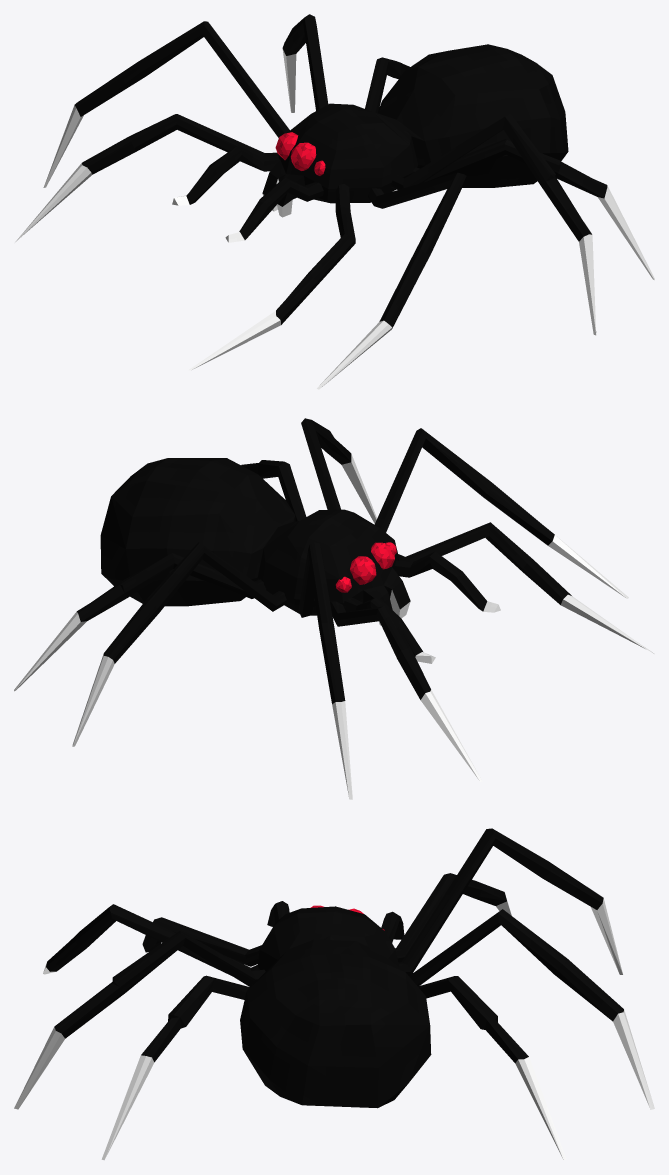
File: spiderIdle5.obj
3 views of the same model, one above another, from view 1: azimuth 30°, elevation 25°; view 2: azimuth 150°, elevation 25°; view 3: azimuth 270°, elevation 25° (orthographic). The views are drawn at different scales.
Visible parts, largest first — view 1: Cube.003_Cube.004; view 2: Cube.003_Cube.004; view 3: Cube.003_Cube.004.
Boxes of the visible parts, <box> form: Cube.003_Cube.004: <box>15,14,654,389</box>; Cube.003_Cube.004: <box>14,418,654,799</box>; Cube.003_Cube.004: <box>14,828,654,1160</box>.
Size of the model in its own units: 29.48 by 11.67 by 34.51.
